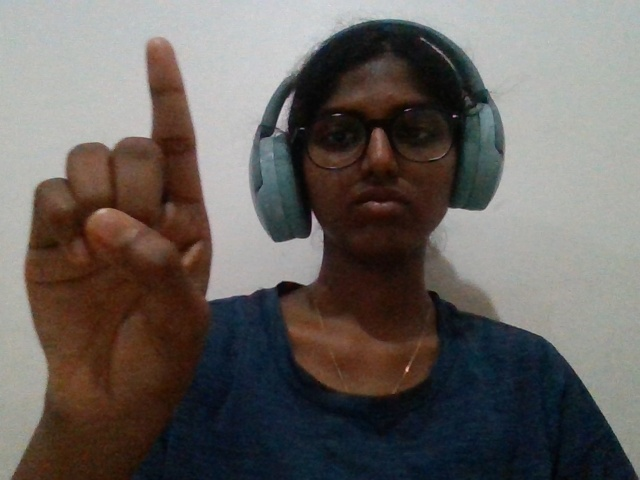D: (9, 25, 225, 445)
